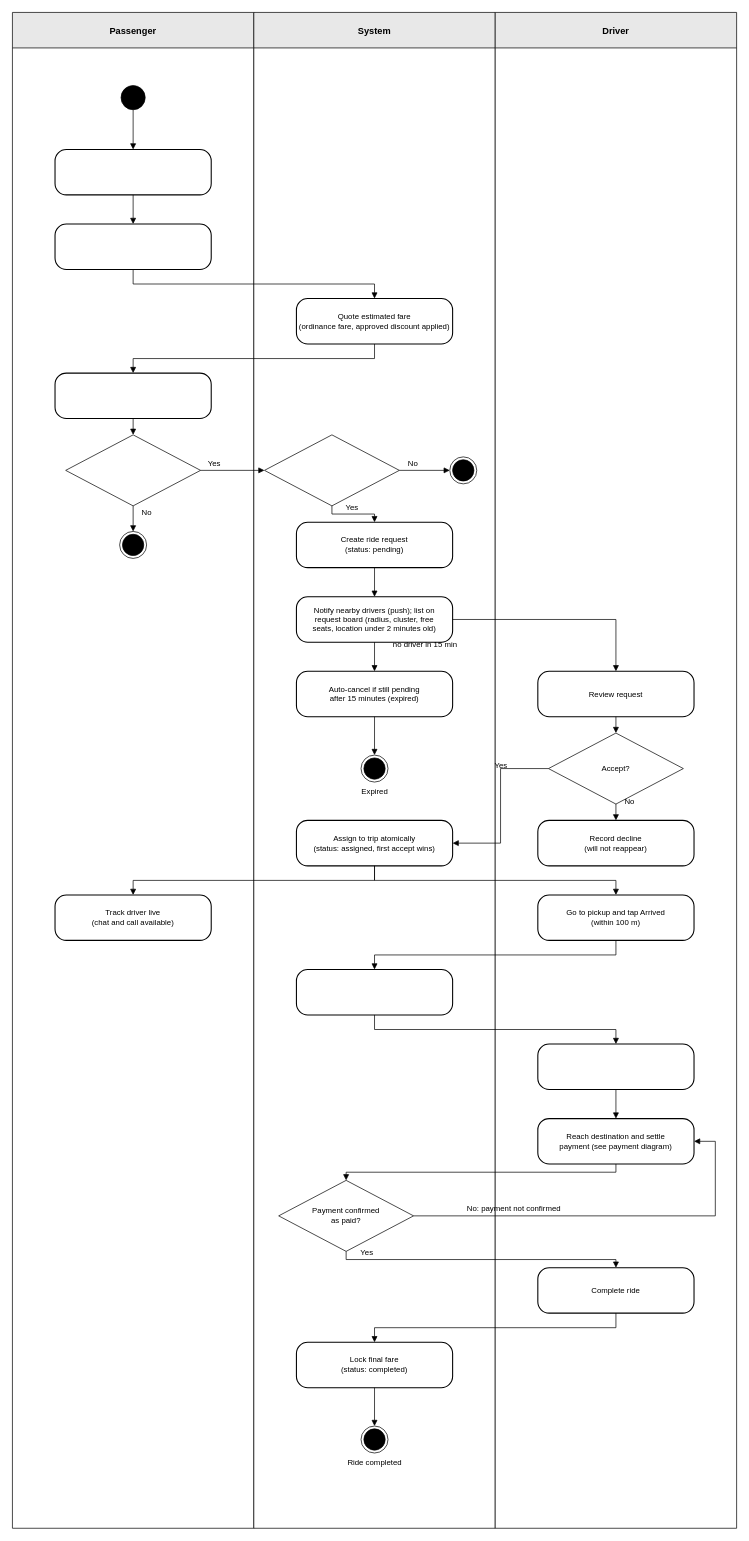
Some shapes in this 749 by 1541 pixel diagram are drawn without their labels. The centre of each missing label's shape, as x and y in pixels:
"Allowed to book? (account active, no unpaid ride, no pause)" goes at [331,470].
"Blocked: settle last ride" goes at [463,470].
"Cancelled" goes at [133,544].
"Confirm request?" goes at [133,470].
"Notify passenger: driver has arrived" goes at [374,992].
"Review fare estimate" goes at [132,395].
"Select seats and payment method (cash or GCash)" goes at [132,246].
"Set pickup and destination" goes at [132,172].
"Start ride within 100 m of pickup (status: ongoing)" goes at [615,1066].
